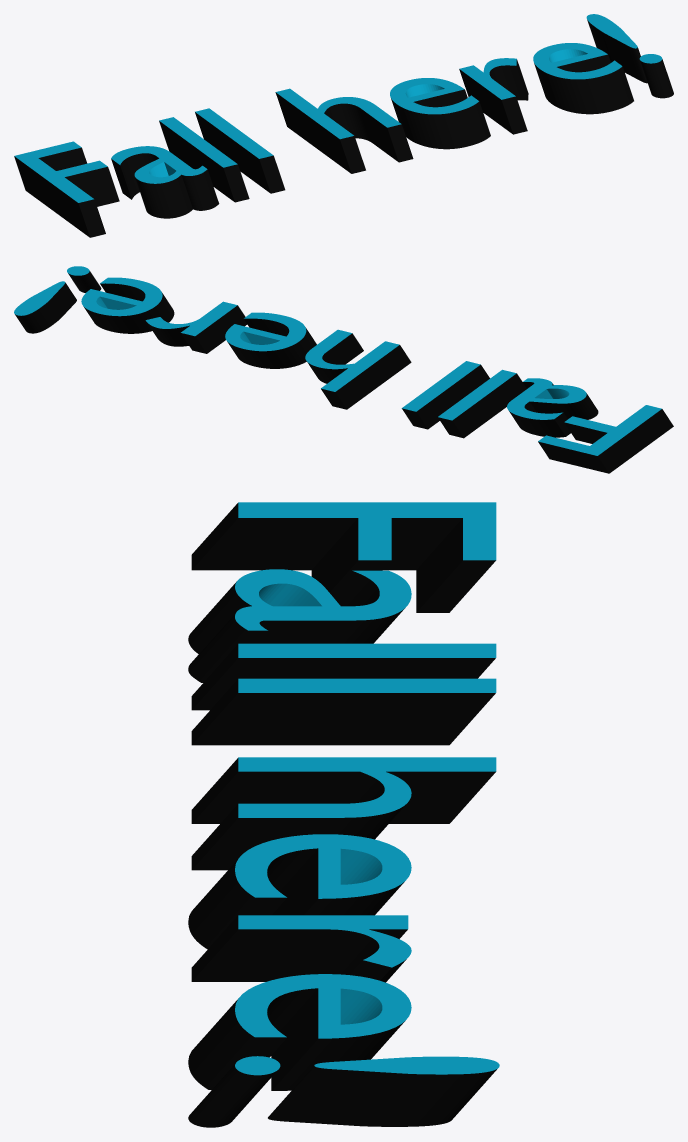
The model's file is fallHere.fbx.
3 renders of one model, top to bottom at view 1: azimuth 30°, elevation 25°; view 2: azimuth 150°, elevation 25°; view 3: azimuth 270°, elevation 25°, orthographic. The views are drawn at different scales.
Visible parts, largest first — view 1: Text; view 2: Text; view 3: Text.
Boxes of the visible parts, box(x1,y1,x2,y2) form: Text: box(14, 14, 673, 237); Text: box(14, 266, 673, 473); Text: box(188, 502, 499, 1127).
Bounding box in the file's own units: 359 × 15.29 × 82.36.
